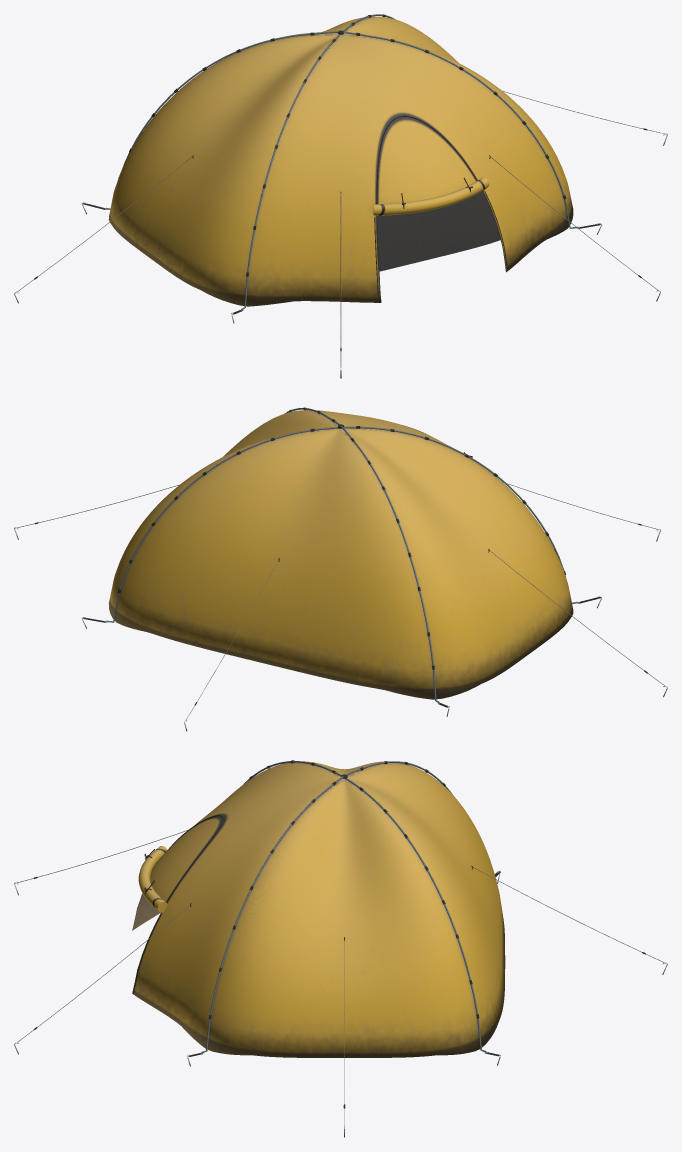
File: camp_tent_dome_mustard.glb
3 views of the same model, one above another, from view 1: azimuth 30°, elevation 25°; view 2: azimuth 150°, elevation 25°; view 3: azimuth 270°, elevation 25° (orthographic). The views are drawn at different scales.
Visible parts, largest first — view 1: Tent; view 2: Tent; view 3: Tent.
Boxes of the visible parts, <box> form: Tent: <box>14,14,667,378</box>; Tent: <box>14,407,667,731</box>; Tent: <box>14,760,667,1137</box>.
Bounding box in the file's own units: 4.2 × 1.19 × 3.52.
1 material, 1 textured.
